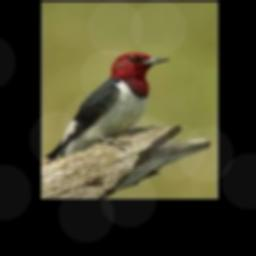Woodpecker: (45, 52, 170, 161)
